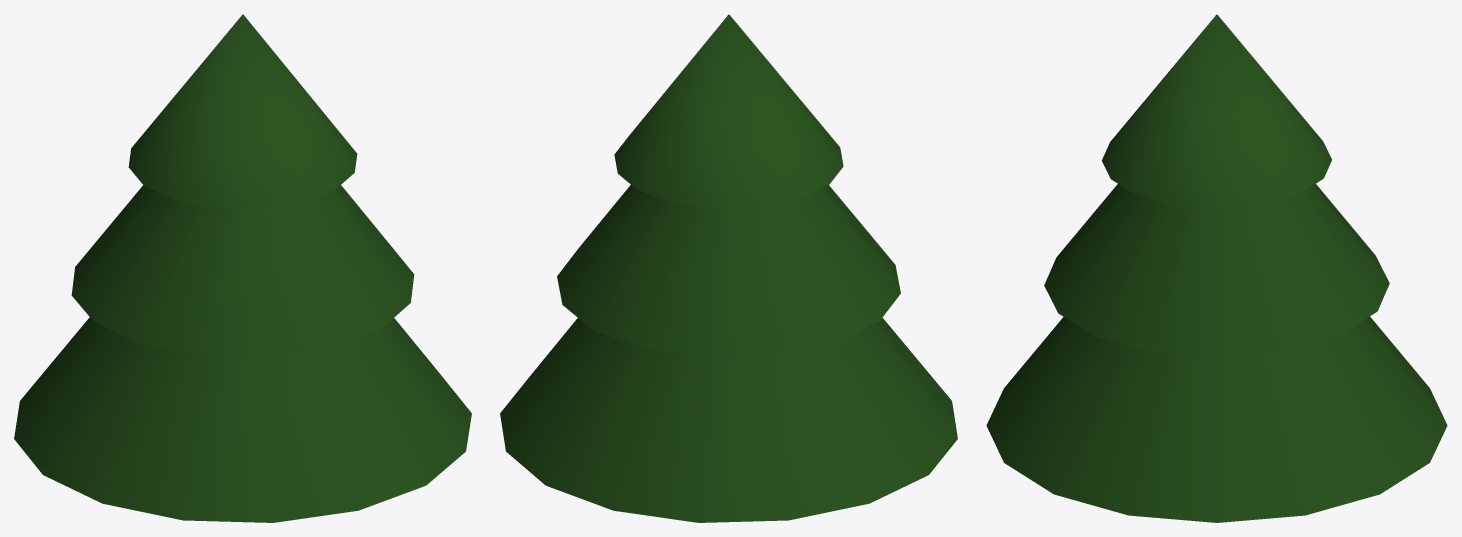
Rendered from tree_lod1.fbx.
The picture shows the model from 3 angles, left to right: view 1: azimuth 30°, elevation 25°; view 2: azimuth 150°, elevation 25°; view 3: azimuth 270°, elevation 25°; orthographic projection.
Visible parts, largest first — view 1: tree_lod1; view 2: tree_lod1; view 3: tree_lod1.
Boxes of the visible parts, box(x1,y1,x2,y2) form: tree_lod1: box(14, 14, 471, 522); tree_lod1: box(500, 14, 957, 522); tree_lod1: box(986, 14, 1447, 522).
Size of the model in its own units: 10 by 11.44 by 10.
